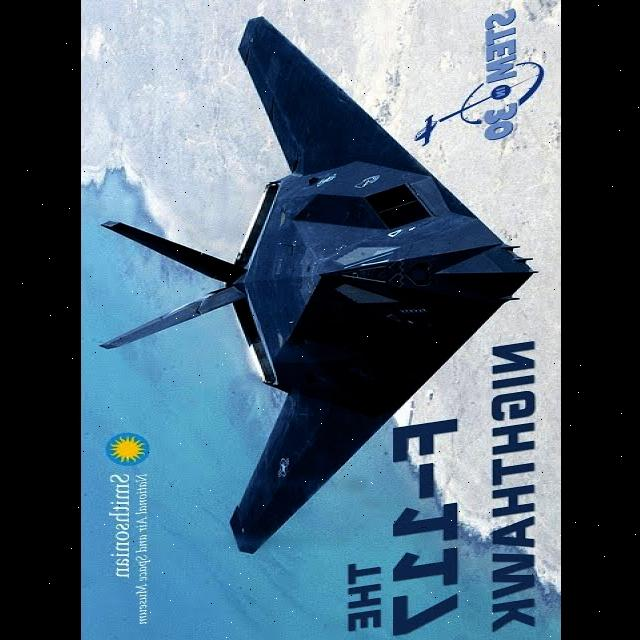F117: (96, 19, 570, 606)
